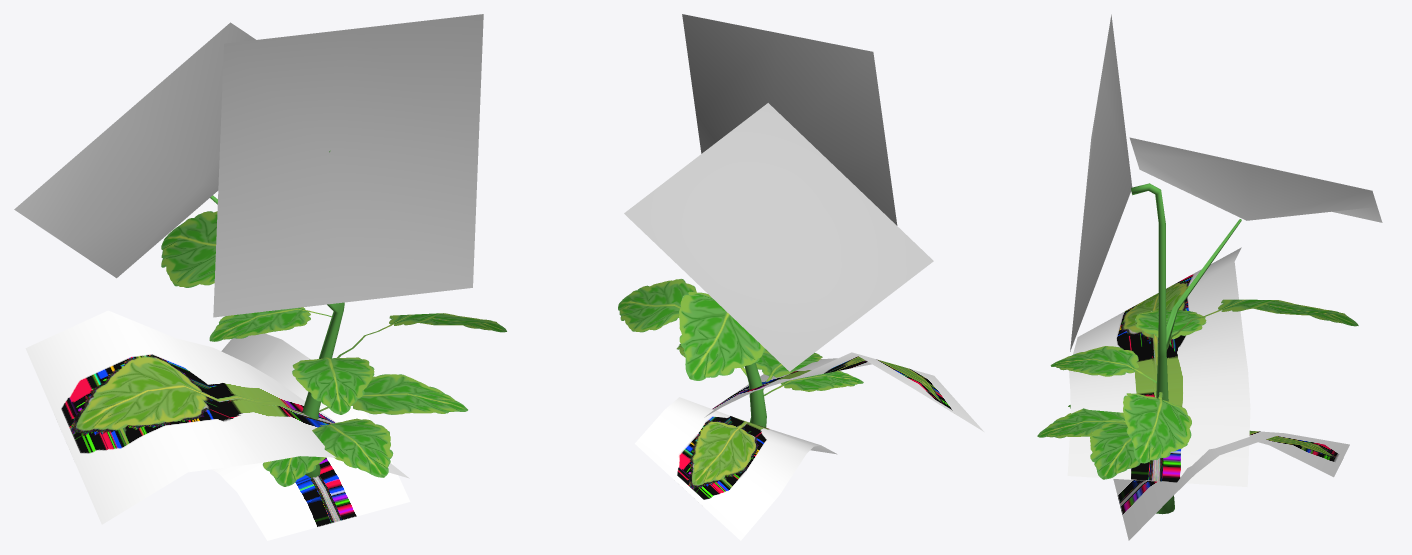
Rendered from Pansy 1.fbx.
3 renders of one model, left to right at view 1: azimuth 30°, elevation 25°; view 2: azimuth 150°, elevation 25°; view 3: azimuth 270°, elevation 25°, orthographic. The views are drawn at different scales.
Parts seen in each view (by area): view 1: Pansy 1; view 2: Pansy 1; view 3: Pansy 1.
Part boxes in pixels (left/top/right/bottom): Pansy 1: left=14, top=14, right=506, bottom=540; Pansy 1: left=618, top=14, right=983, bottom=540; Pansy 1: left=1037, top=14, right=1382, bottom=540.
Bounding box in the file's own units: 0.3546 × 0.3925 × 0.3049.
